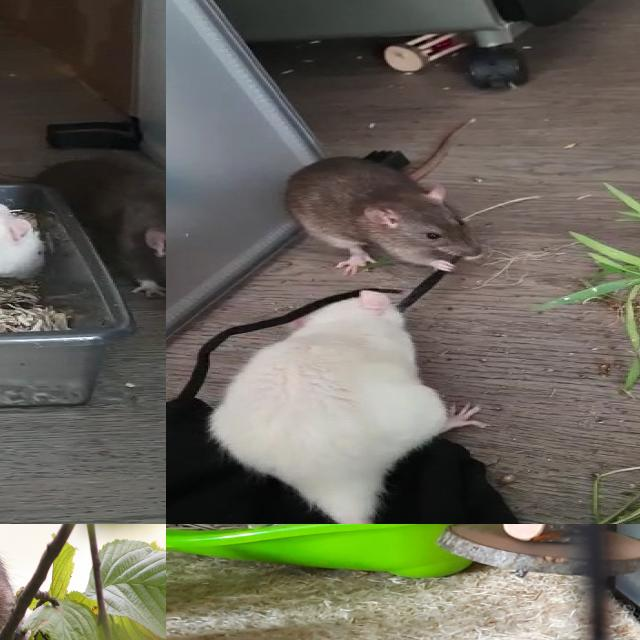rat: (210, 293, 438, 515), (285, 157, 489, 279), (37, 157, 166, 310)
